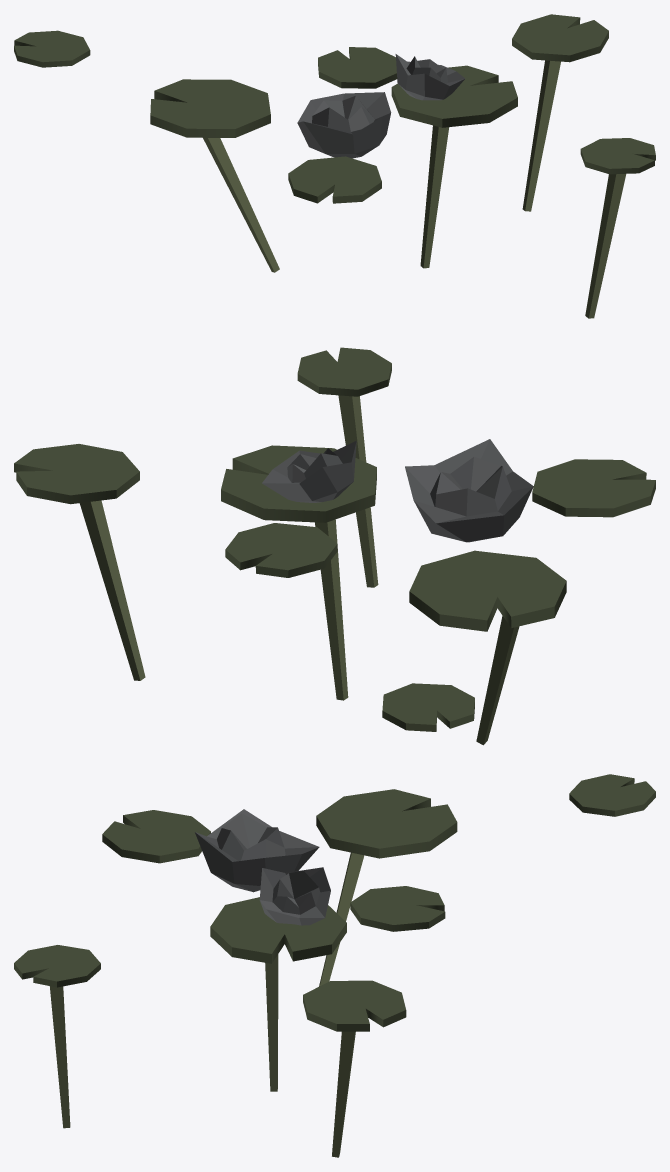
Rendered from source.gltf.
3 views of the same model, one above another, from view 1: azimuth 30°, elevation 25°; view 2: azimuth 150°, elevation 25°; view 3: azimuth 270°, elevation 25° (orthographic). The views are drawn at different scales.
Visible parts, largest first — view 1: SM_Plant_Lillypad_Small_01; view 2: SM_Plant_Lillypad_Small_01; view 3: SM_Plant_Lillypad_Small_01.
Part boxes in pixels (left/top/right/bottom): SM_Plant_Lillypad_Small_01: left=14, top=14, right=655, bottom=318; SM_Plant_Lillypad_Small_01: left=14, top=347, right=655, bottom=745; SM_Plant_Lillypad_Small_01: left=14, top=774, right=655, bottom=1157.
Size of the model in its own units: 1.74 by 0.7143 by 1.88.
Materials: 1 (1 with a texture image).
